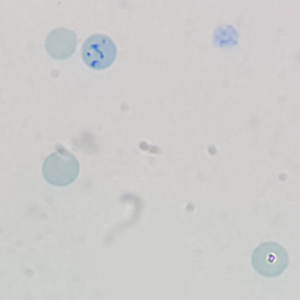aggregate reticulocyte: (80, 32, 119, 71)
erythrocyte: (41, 149, 82, 188), (250, 241, 290, 279), (43, 26, 79, 61)
